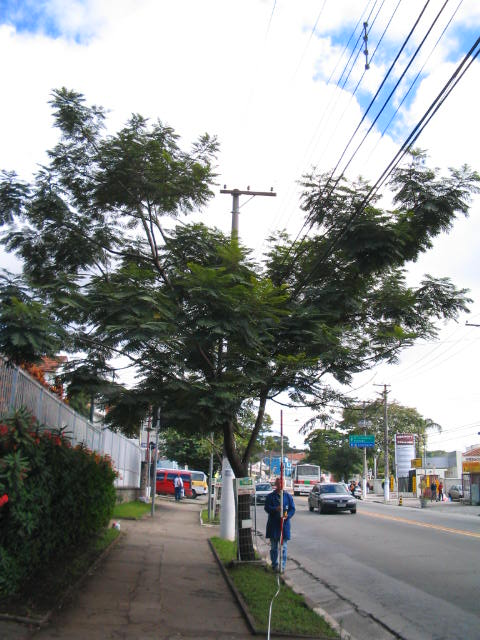crown: (1, 85, 478, 451)
stem: (225, 468, 268, 560)
stick: (270, 407, 287, 573)
tree: (1, 83, 480, 563)
